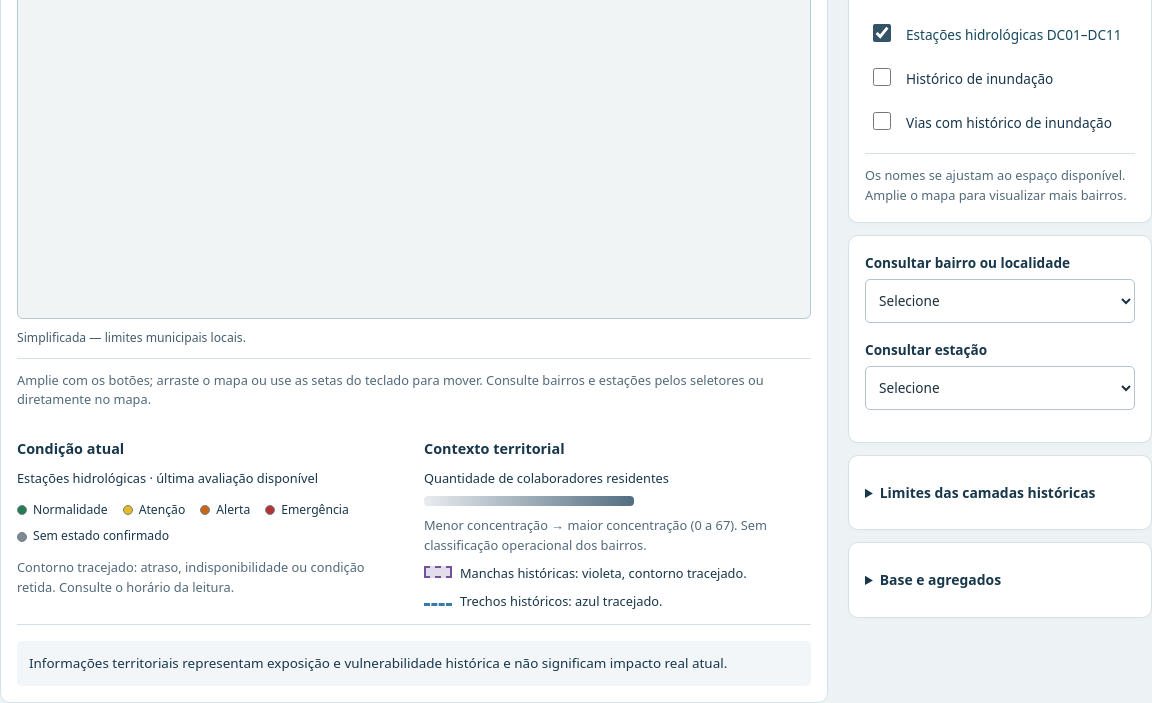
Test: Fase 07 — regressão funcional do mapa migrado › preserva avisos e remove completamente cenários e seletor
This screenshot has width=1152, height=703.
(page scrolled)
Click the heading "Limites das camadas históricas".
click(988, 492)  # box [880,483,1096,502]
(page scrolled)
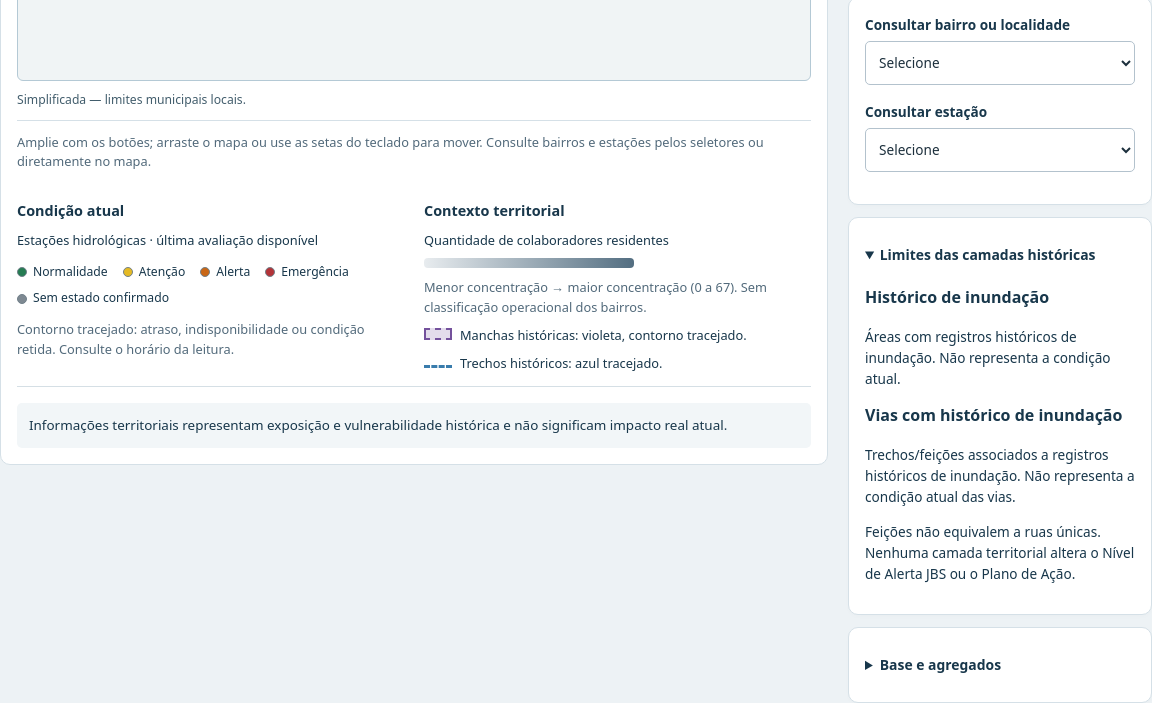
Now the text "Áreas com registros históricos de inundação. Não representa a condição atual." is shown, box [865,326,1135,389]
Now the text "Trechos/feições associados a registros históricos de inundação. Não representa a condição atual das vias." is shown, box [865,445,1135,506]
